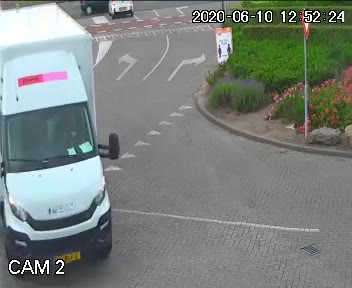car: (0, 4, 142, 276)
